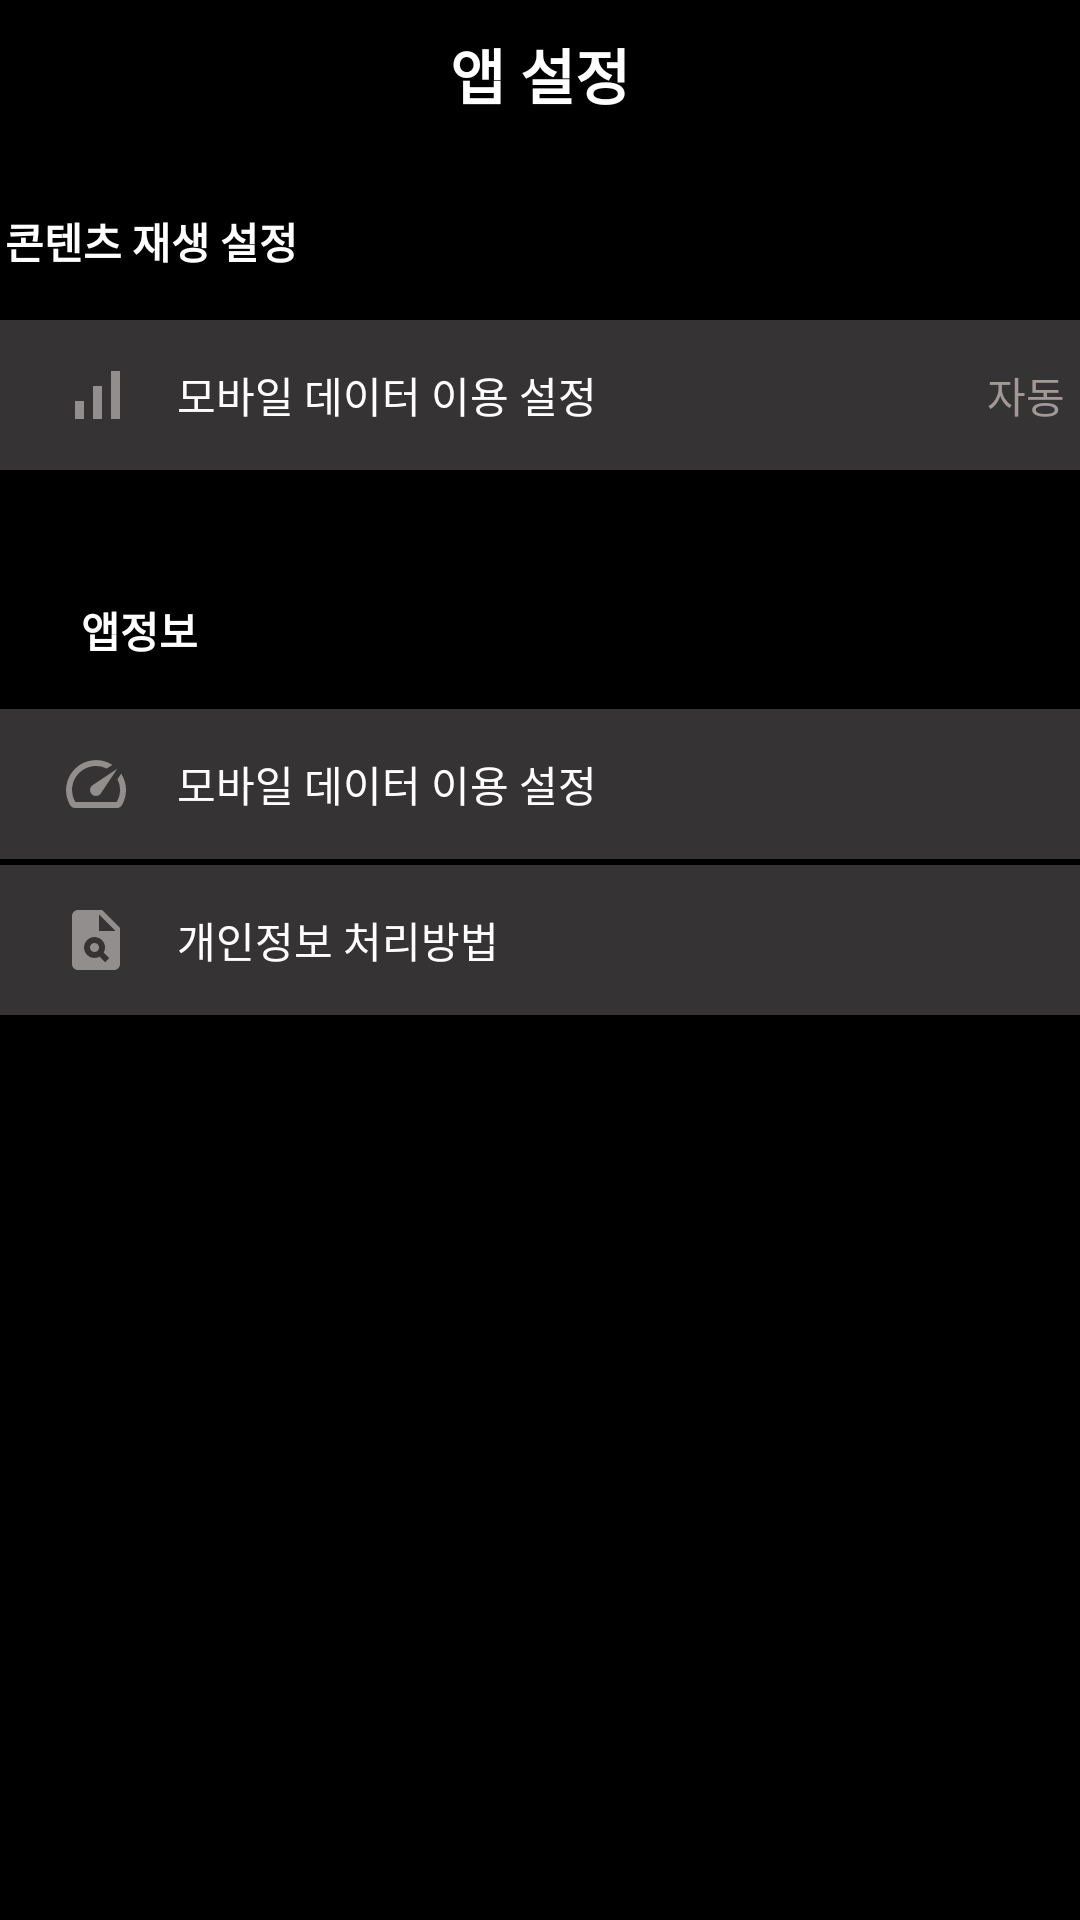

Point at icon controls on the screen. Image size 1080*1920, points as (x,y).
plagiarism: (96,940)
signal: (97,395)
speed: (96,784)
